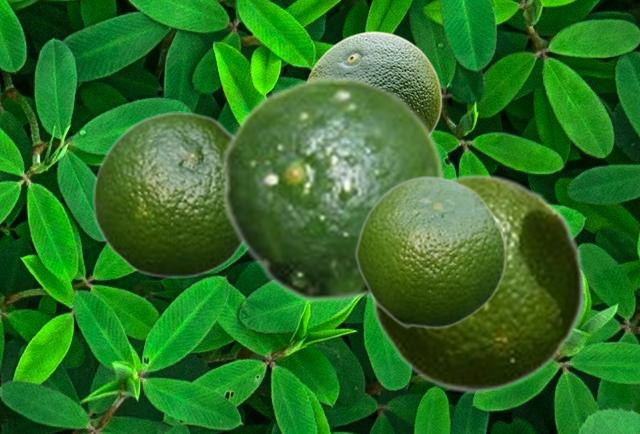calamansi: (221, 75, 445, 303), (369, 173, 585, 392), (92, 111, 243, 278), (354, 174, 506, 328), (307, 31, 441, 133)
